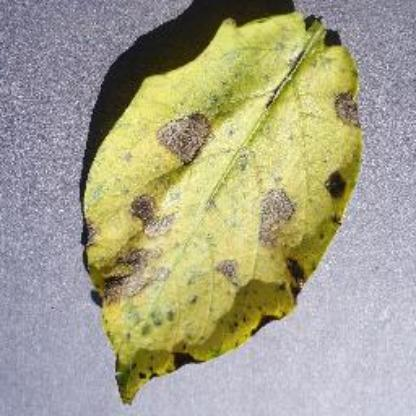Early-Blight: (77, 12, 377, 404)
